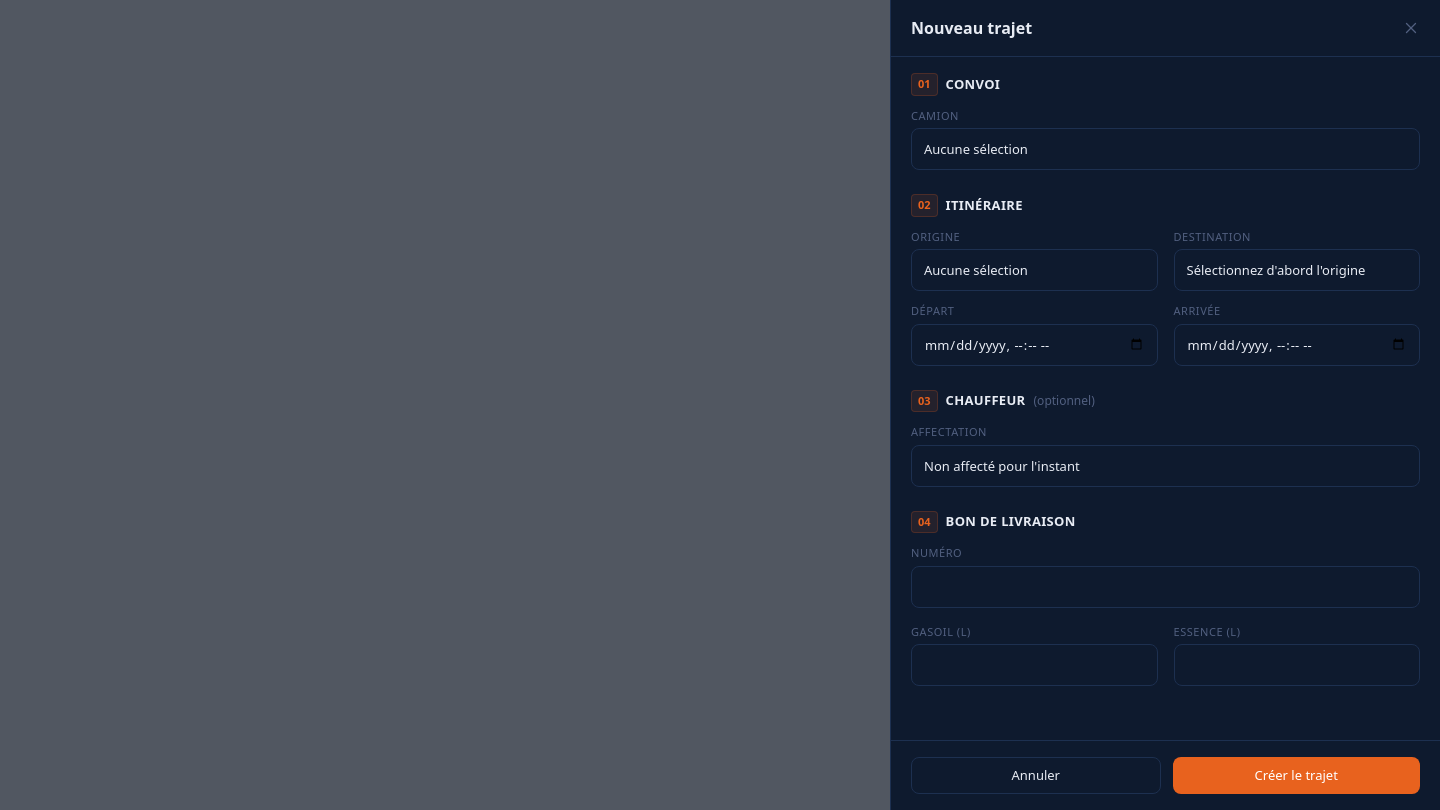
NewTripDrawer › when open › origin / destination › shows only destinations for the selected origin
Focus the dropdown labelled "Origine" at (1034, 270), box [911, 249, 1158, 291]
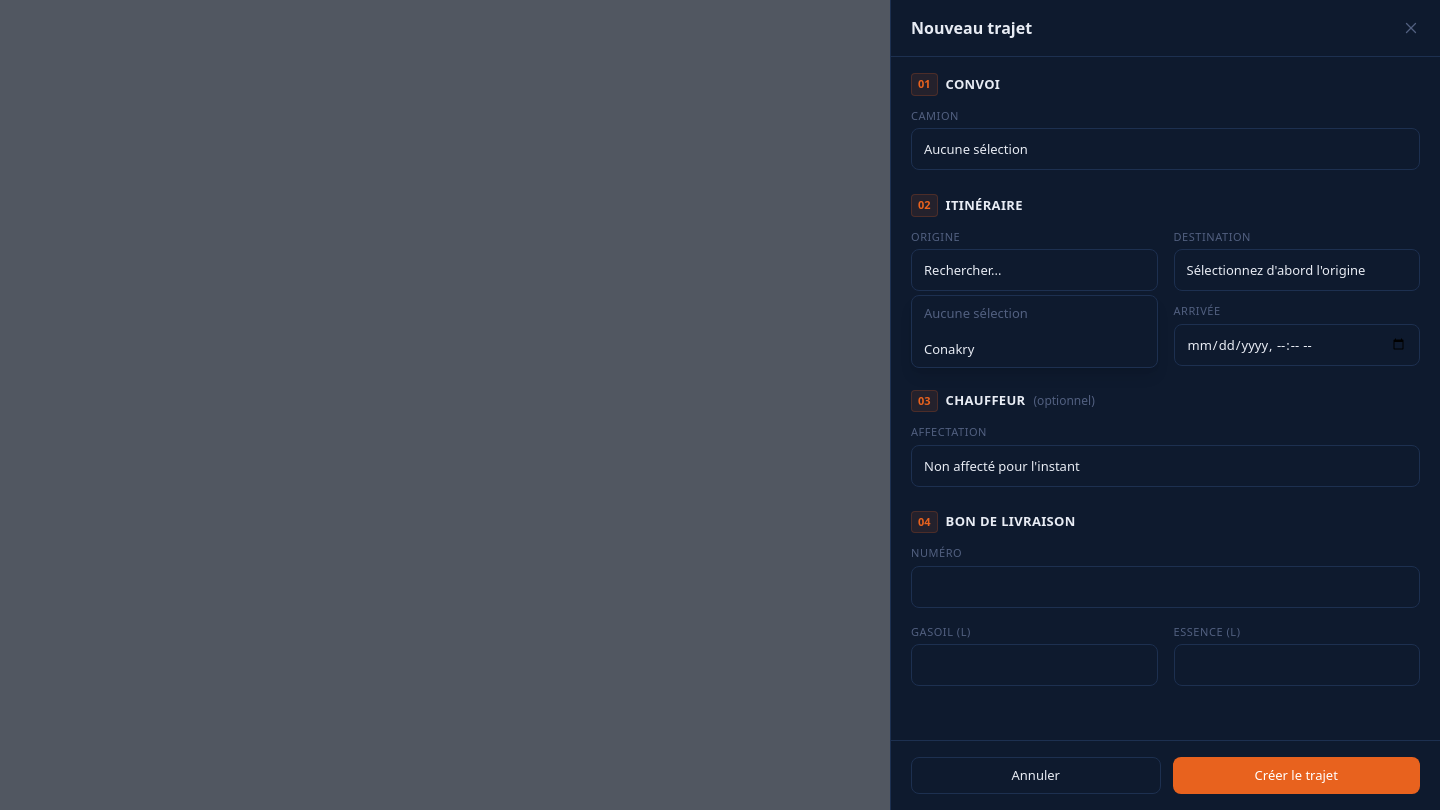
Expected: the button "Conakry" is shown
Press the mouse on the button "Conakry" at (1034, 349), box [912, 332, 1156, 367]
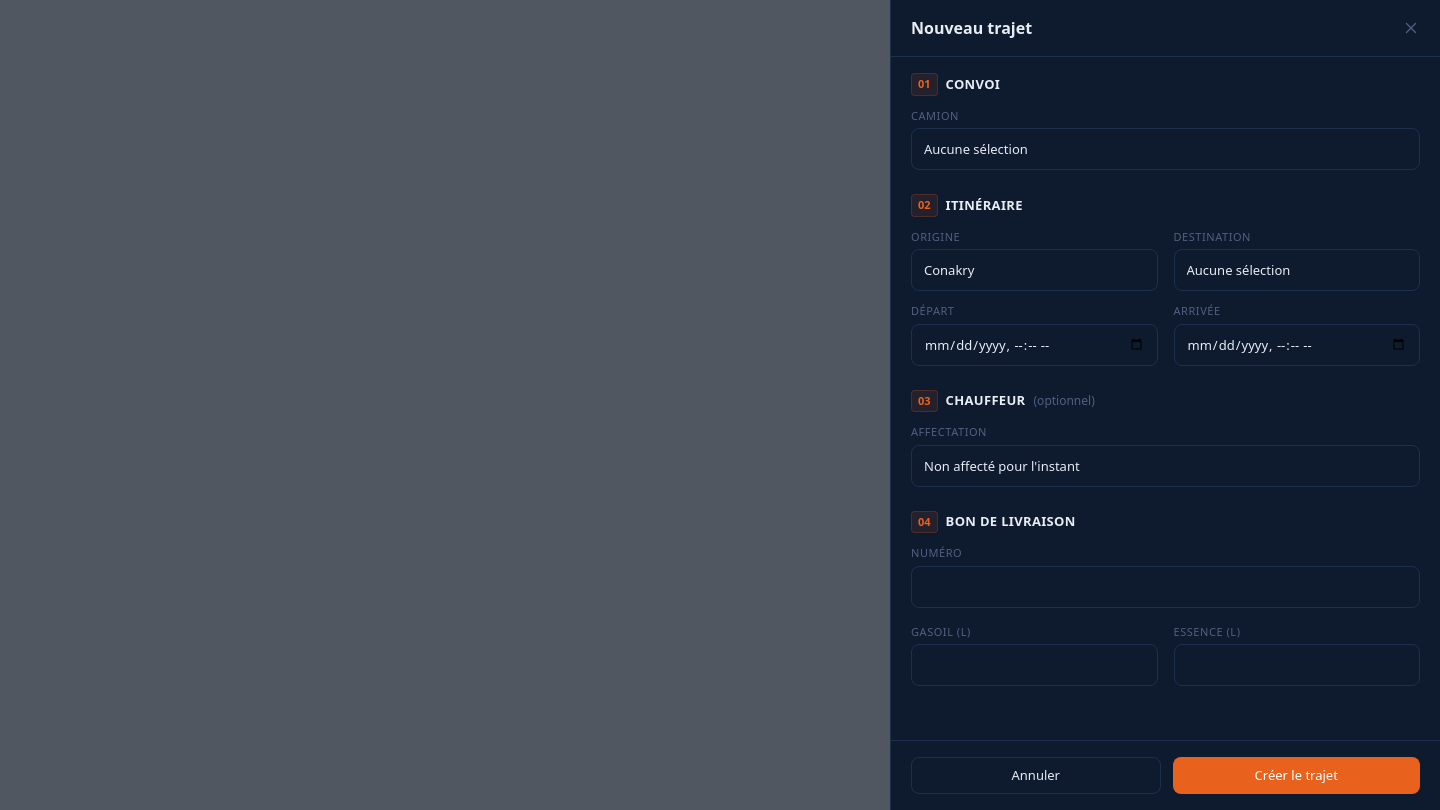
Focus the dropdown labelled "Destination" at (1297, 270), box [1174, 249, 1420, 291]
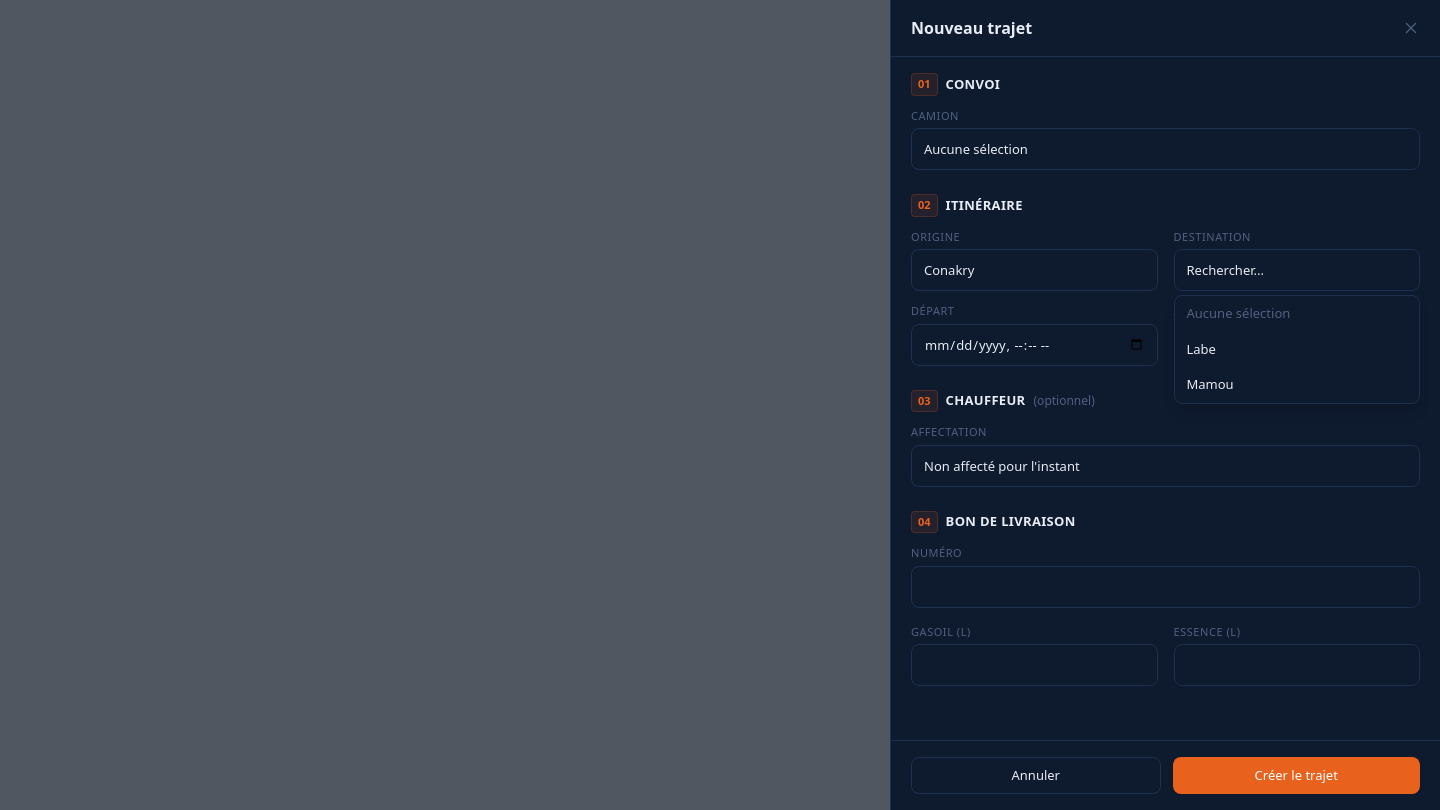
Expected: the button "Labe" is shown, [1174, 332, 1419, 367]
Expected: the button "Mamou" is shown, [1174, 367, 1419, 402]
